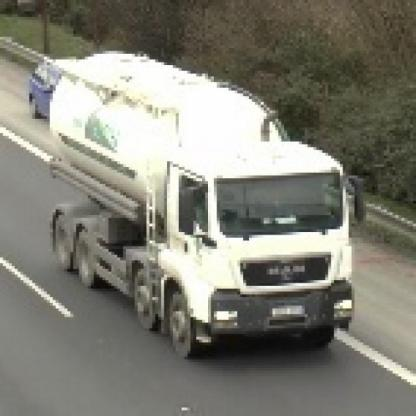truck: (36, 49, 367, 366)
